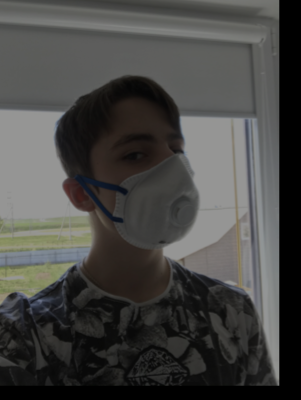with_mask: (103, 117, 198, 249)
